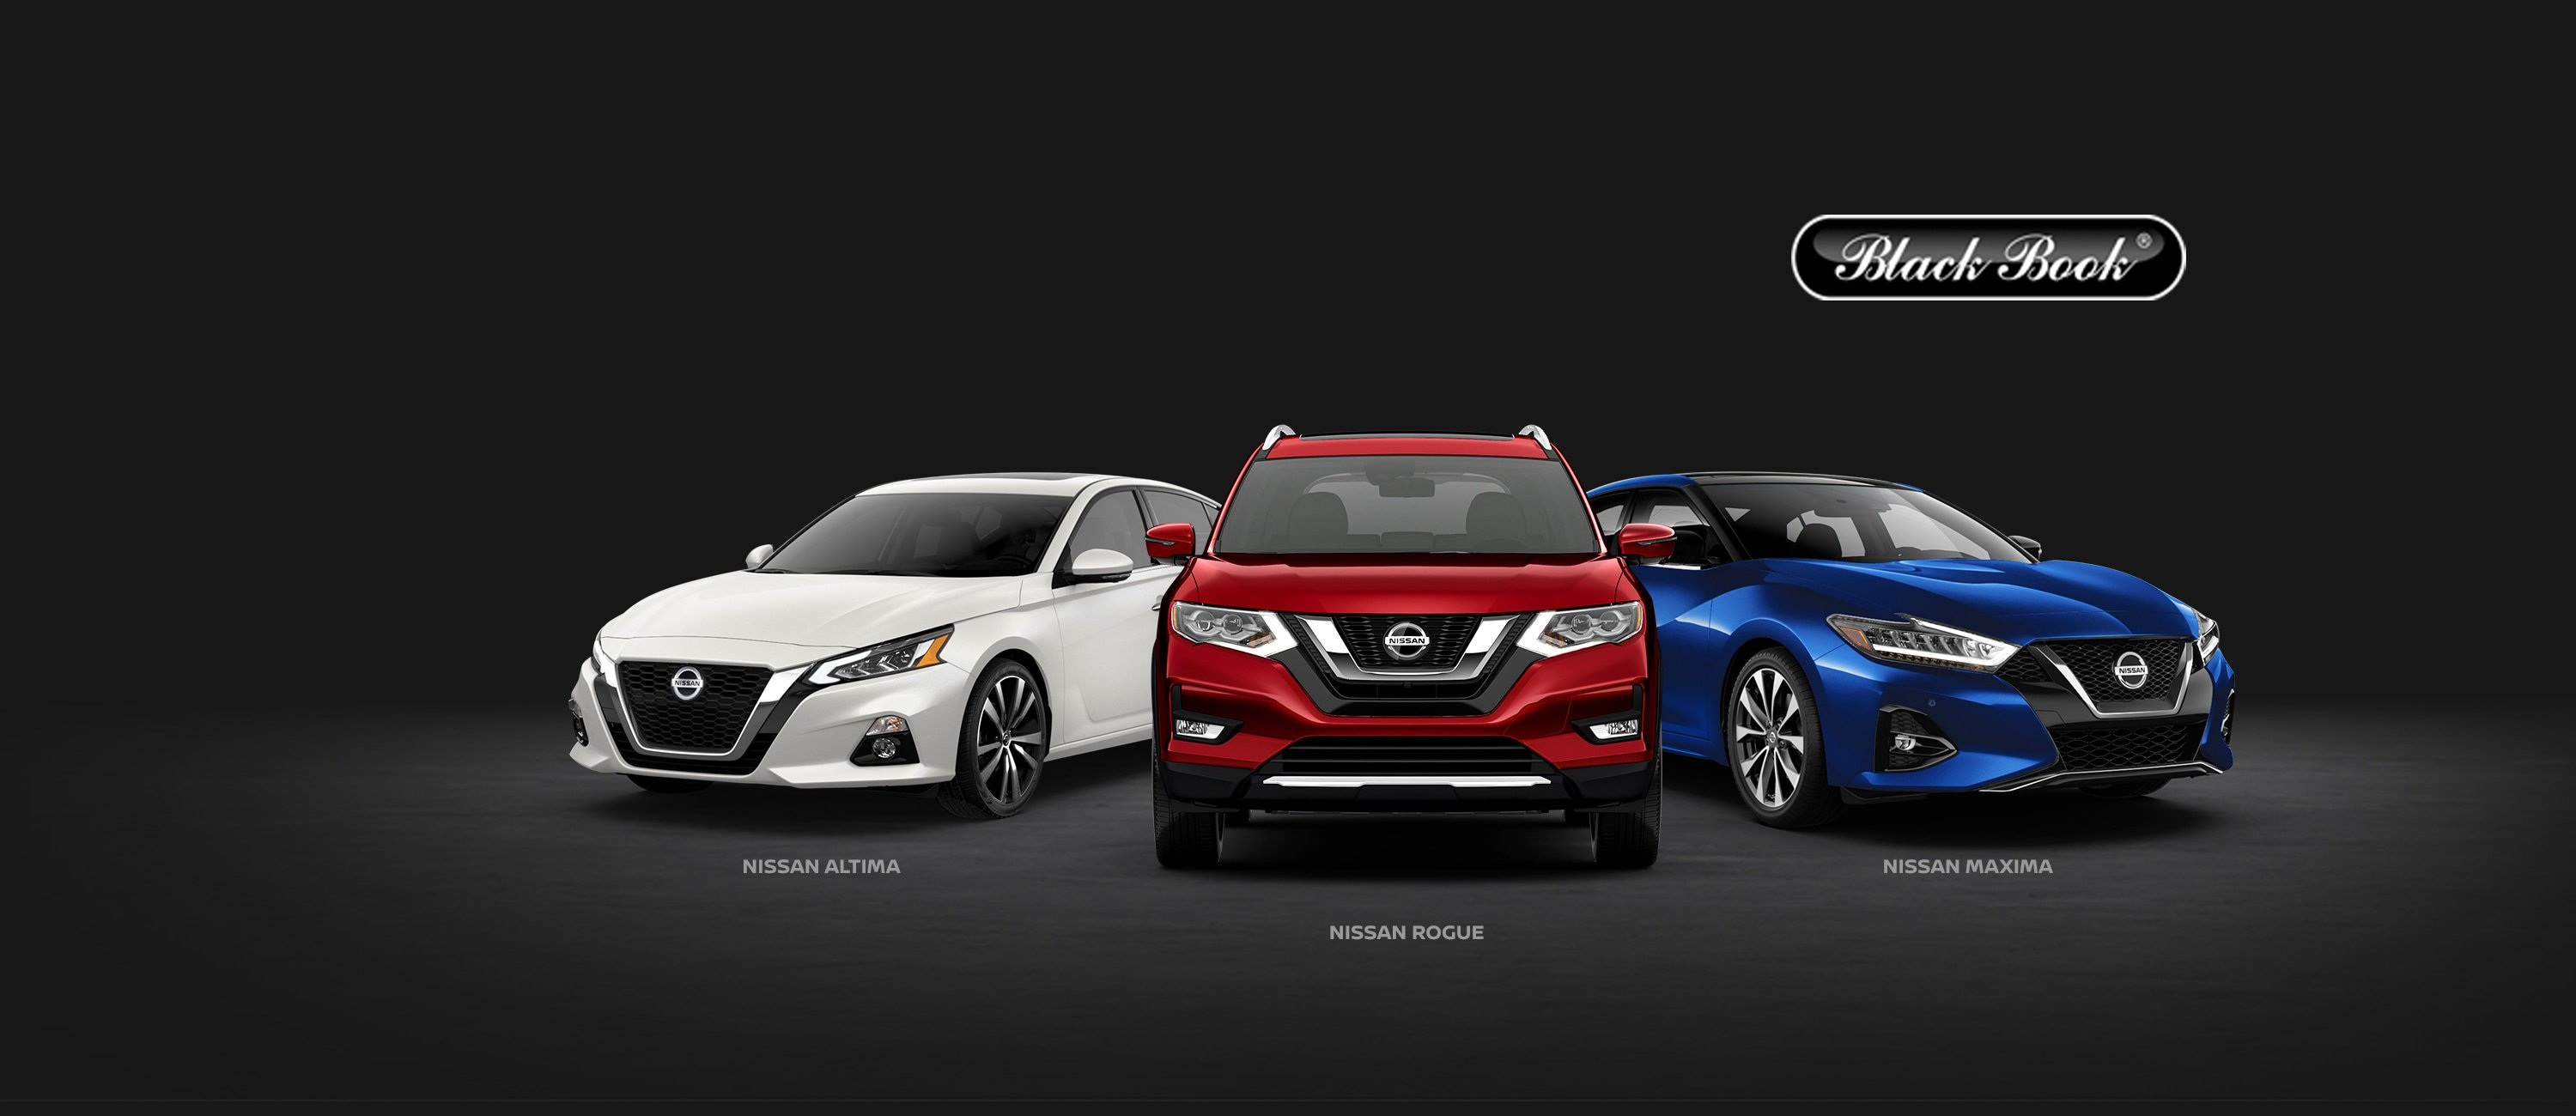car: (552, 445, 1247, 837), (1623, 450, 2275, 830), (1160, 413, 1681, 878)
